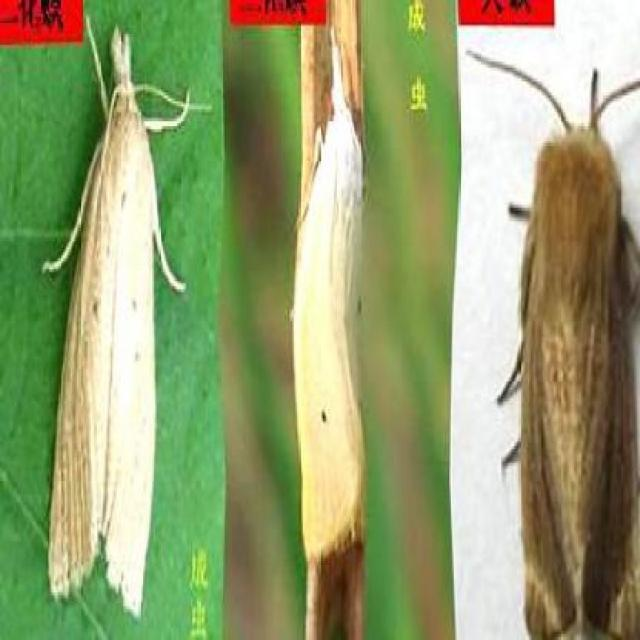stem-borer: (36, 19, 212, 624), (464, 41, 640, 640), (291, 32, 369, 560)
